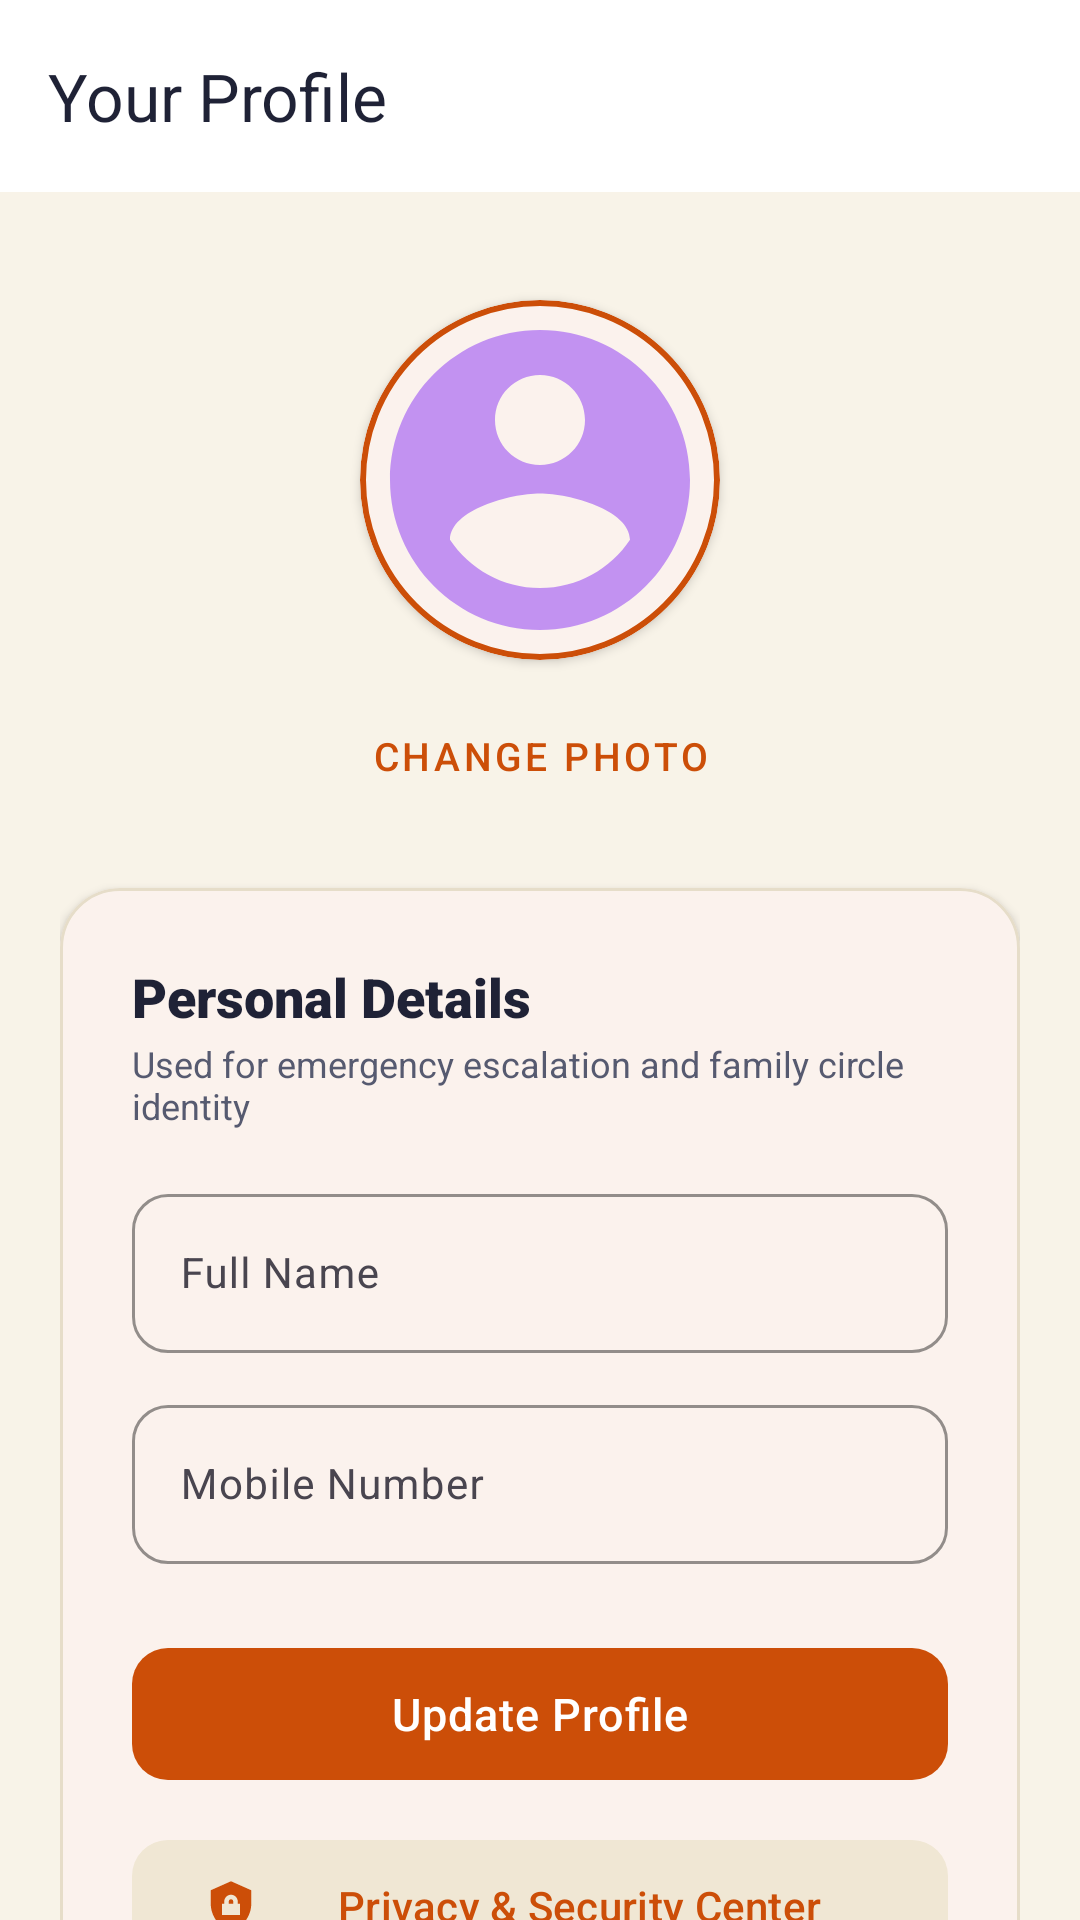

Locate icon controls on the screen. Image size 1080px×1920px, boxes as (x1, y1, x2, y2).
Profile Photo: (360, 300, 720, 660)
